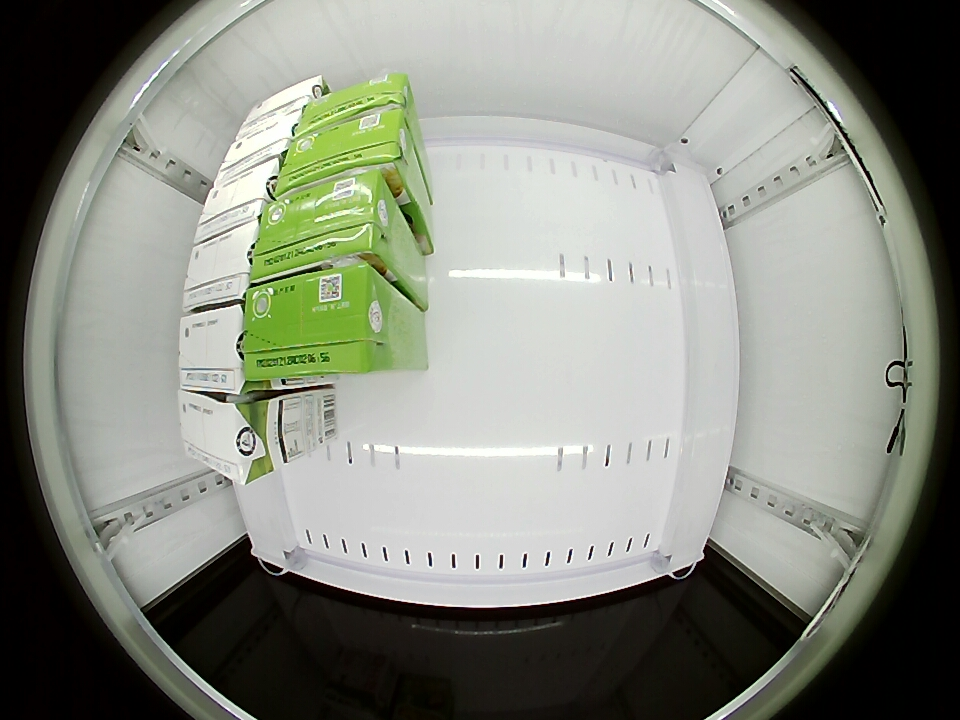mengniu: (179, 392, 269, 485), (196, 156, 281, 243), (183, 224, 258, 313), (178, 306, 251, 397), (220, 108, 302, 180), (241, 73, 329, 132)
mengniuzaocan: (244, 264, 389, 381), (254, 171, 393, 280), (276, 107, 409, 193), (296, 73, 411, 134)
